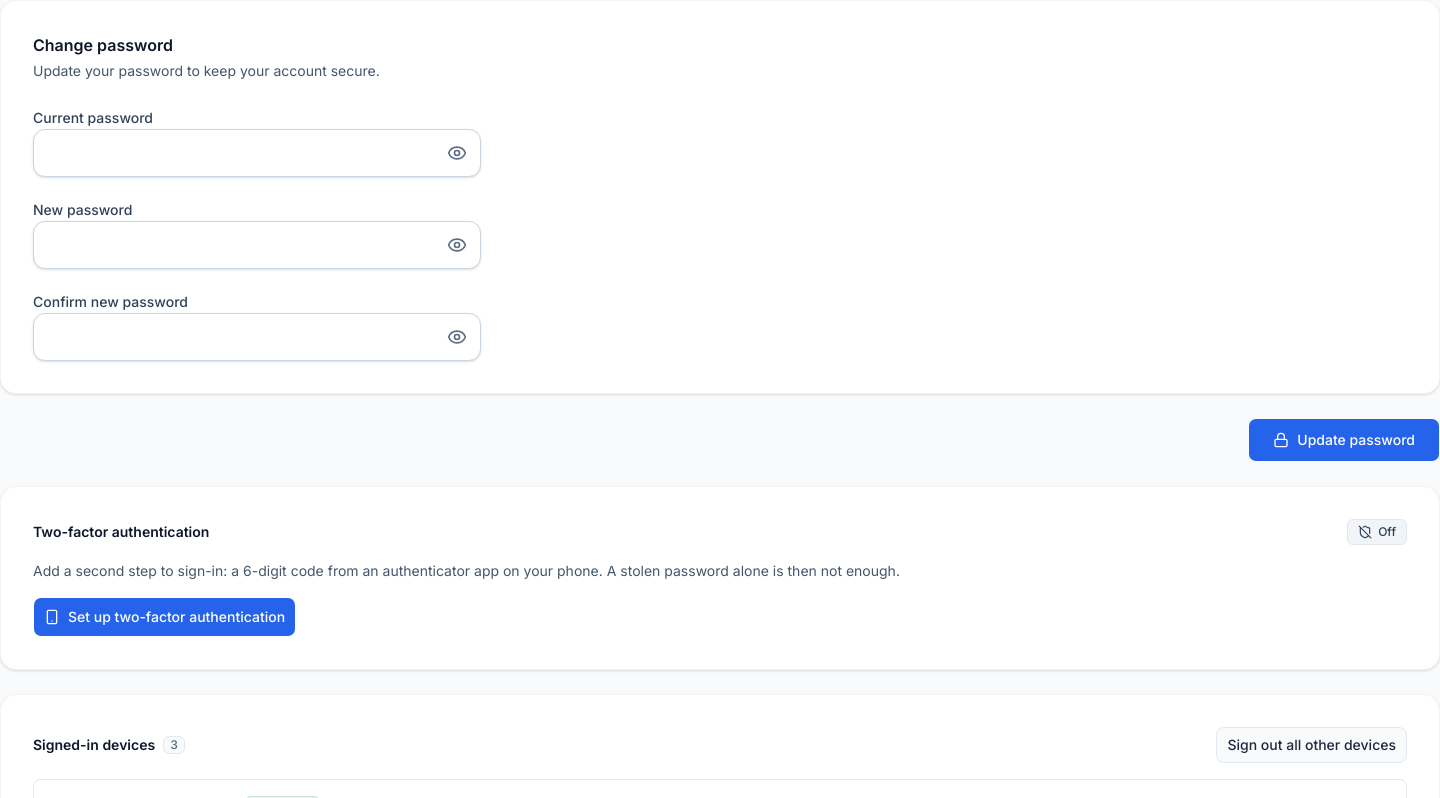
Scenario: SecurityPage signed-in devices › signs out all other devices after confirming
Click the button "Sign out all other devices" at (1312, 745), box [1216,727,1407,763]
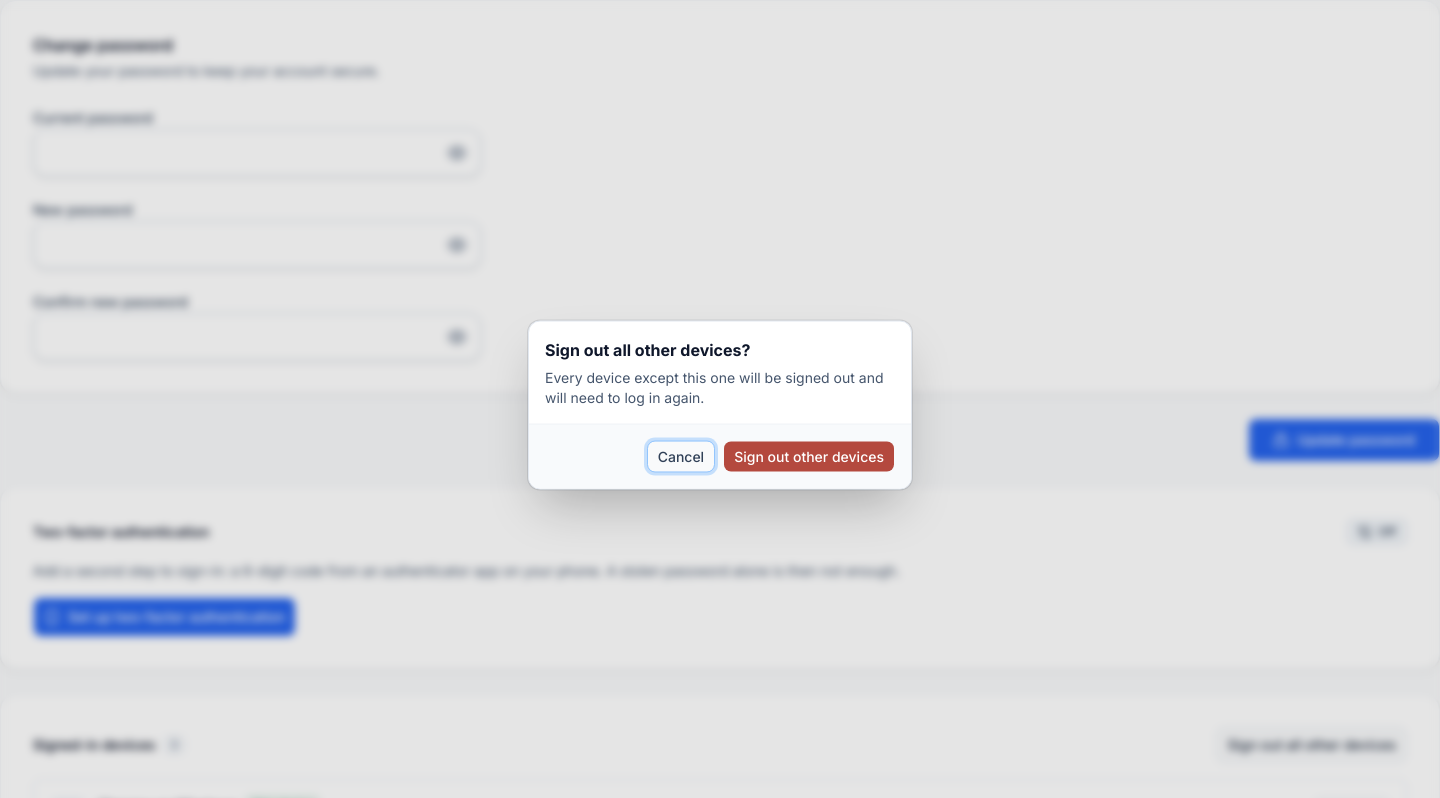
Click the button "Sign out other devices" at (809, 456), box [723,440,895,472]
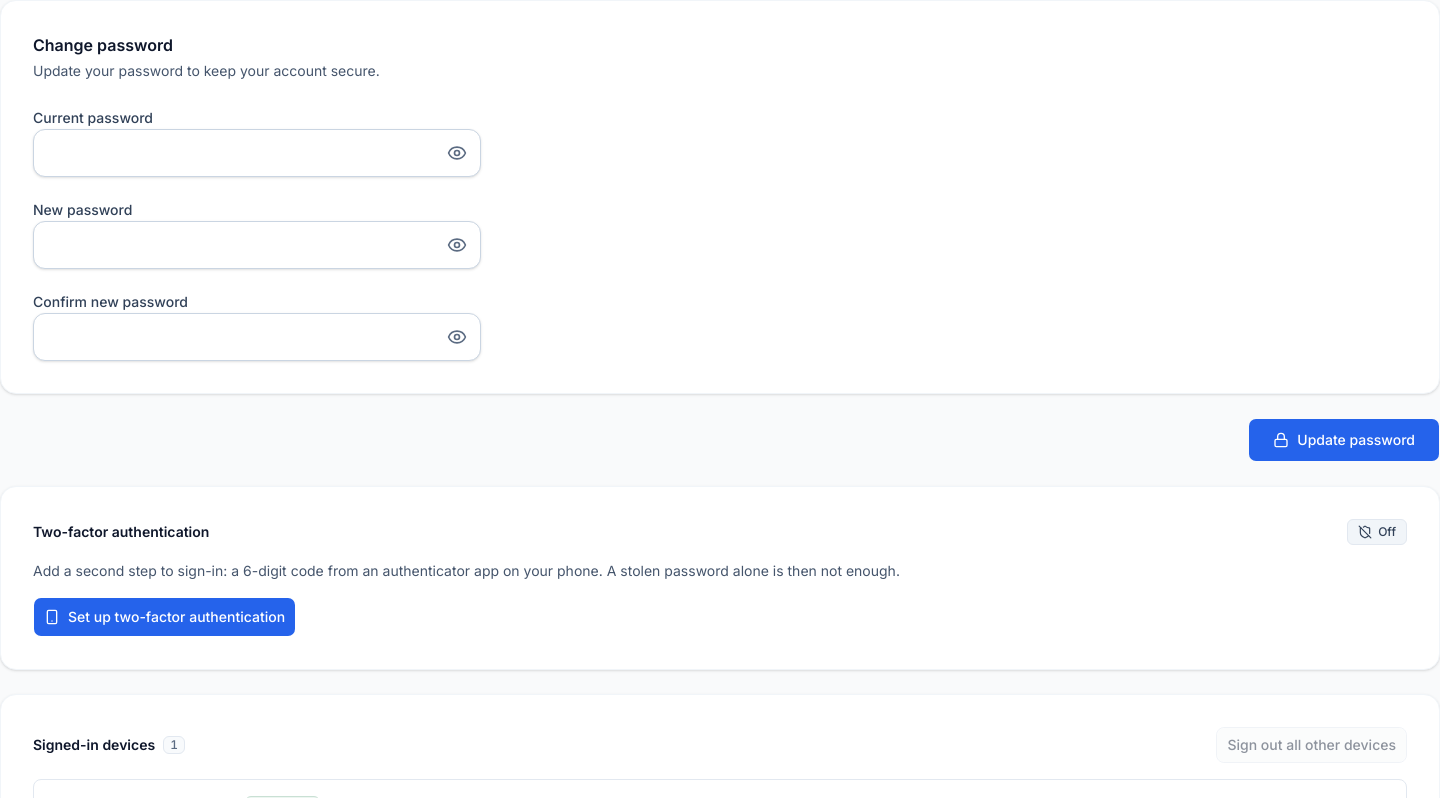
Now the button "Sign out all other devices" is disabled, box [1216,727,1407,763]
